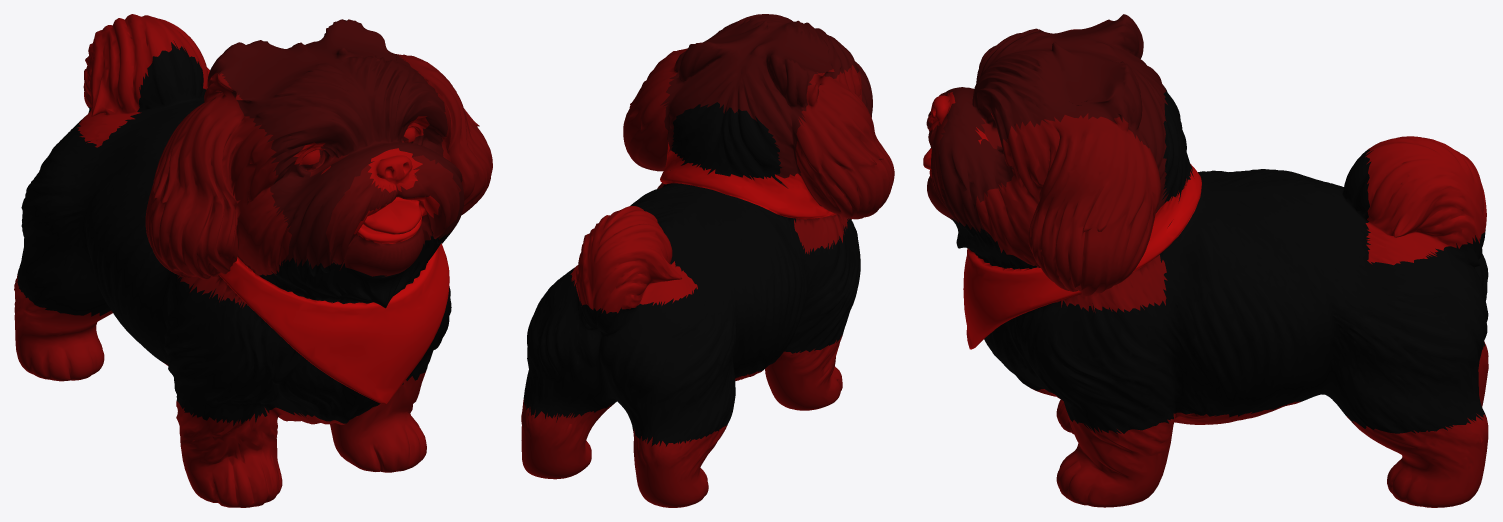
The model's file is shih-tzu.glb.
The picture shows the model from 3 angles, left to right: view 1: azimuth 30°, elevation 25°; view 2: azimuth 150°, elevation 25°; view 3: azimuth 270°, elevation 25°; orthographic projection. The views are drawn at different scales.
Parts seen in each view (by area): view 1: geometry_0; view 2: geometry_0; view 3: geometry_0.
Boxes of the visible parts, <box> form: geometry_0: <box>14,14,492,507</box>; geometry_0: <box>521,14,894,507</box>; geometry_0: <box>923,14,1488,507</box>.
Size of the model in its own units: 90.01 by 114 by 139.
